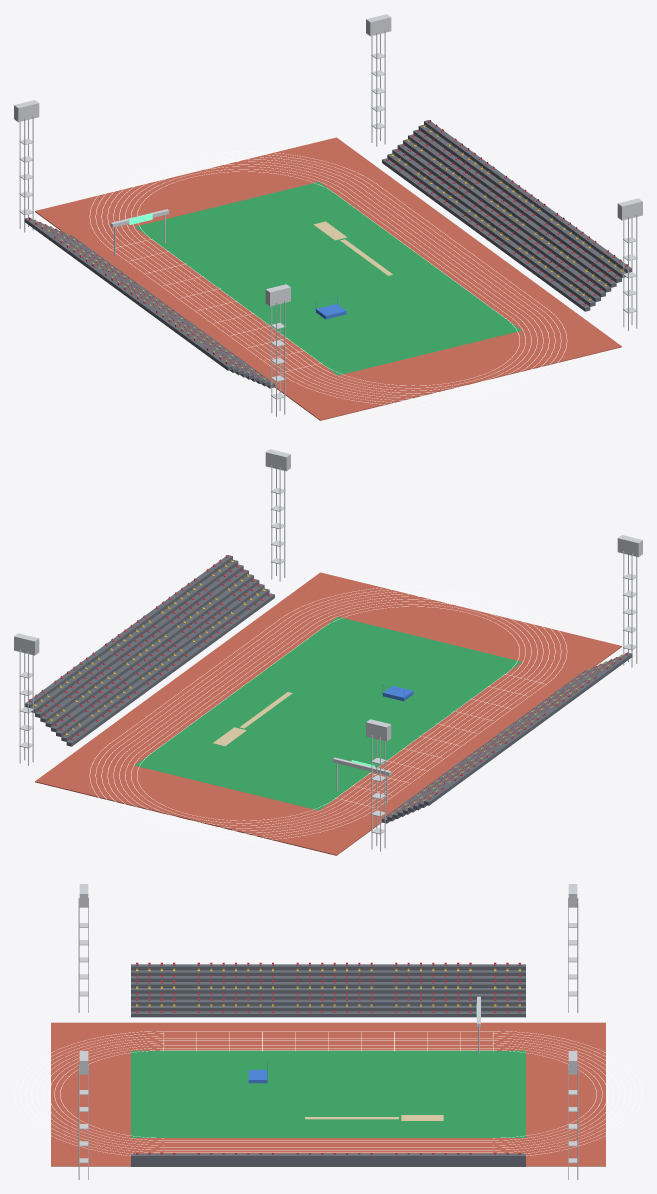
File: dynamic_field_track.glb
3 views of the same model, one above another, from view 1: azimuth 30°, elevation 25°; view 2: azimuth 150°, elevation 25°; view 3: azimuth 270°, elevation 25° (orthographic). The views are drawn at different scales.
Visible parts, largest first — view 1: Track_Surface, Infield_Lawn, Track_Grandstands_Concrete, Track_LaneLines, Track_FloodlightPylons, Track_Seats_Red, Track_Seats_Gold; view 2: Track_Surface, Infield_Lawn, Track_Grandstands_Concrete, Track_LaneLines, Track_FloodlightPylons, Track_Seats_Red, Track_Seats_Gold, Event_LongJumpPit; view 3: Track_Surface, Infield_Lawn, Track_Grandstands_Concrete, Track_LaneLines, Track_FloodlightPylons, Track_Seats_Red, Track_Seats_Gold, Event_LongJumpPit.
Boxes of the visible parts, box(x1,y1,x2,y2) form: Track_Surface: box(35, 137, 621, 420); Infield_Lawn: box(135, 182, 521, 375); Track_Grandstands_Concrete: box(24, 120, 631, 388); Track_LaneLines: box(89, 151, 567, 405); Track_FloodlightPylons: box(14, 14, 642, 416); Track_Seats_Red: box(29, 120, 627, 381); Track_Seats_Gold: box(34, 125, 622, 379); Track_Surface: box(35, 572, 621, 855); Infield_Lawn: box(135, 617, 521, 810); Track_Grandstands_Concrete: box(25, 555, 632, 823); Track_LaneLines: box(89, 586, 567, 840); Track_FloodlightPylons: box(14, 449, 642, 851); Track_Seats_Red: box(29, 555, 627, 816); Track_Seats_Gold: box(34, 560, 622, 814); Event_LongJumpPit: box(213, 692, 292, 746); Track_Surface: box(51, 1022, 605, 1166); Infield_Lawn: box(131, 1050, 525, 1137); Track_Grandstands_Concrete: box(131, 964, 525, 1166); Track_LaneLines: box(14, 1031, 642, 1155); Track_FloodlightPylons: box(78, 884, 578, 1179); Track_Seats_Red: box(136, 962, 520, 1154); Track_Seats_Gold: box(136, 968, 520, 1006); Event_LongJumpPit: box(305, 1115, 443, 1120).
Size of the model in its own units: 96.5 by 28.8 by 134.
